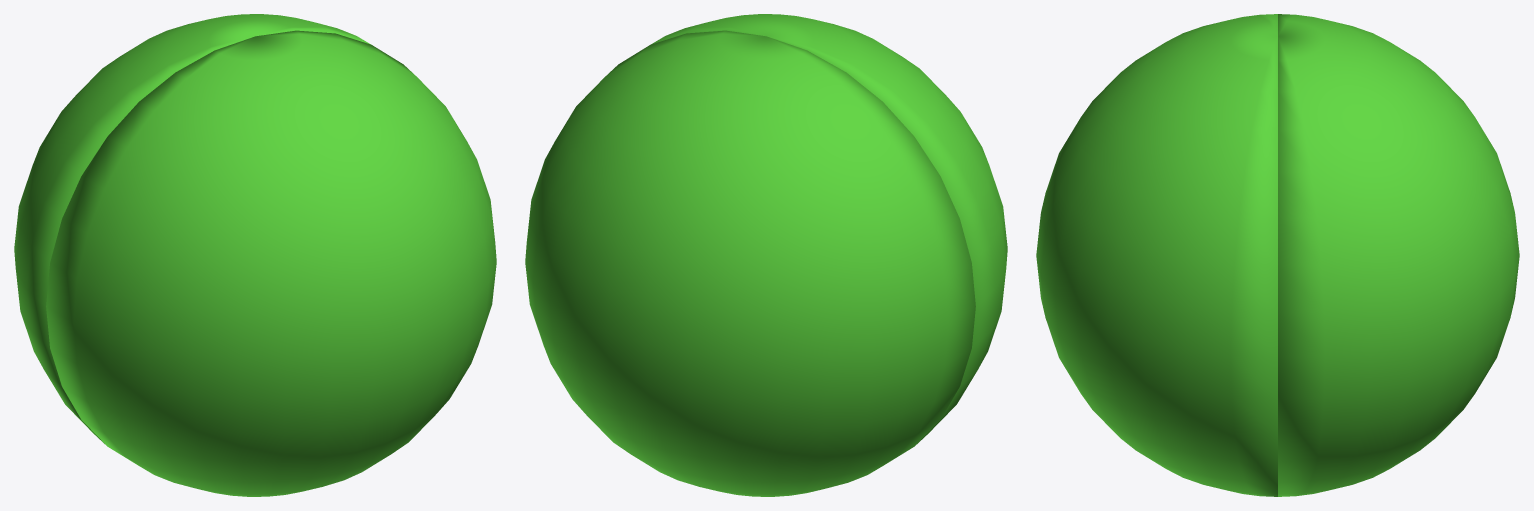
Rendered from Watermelon_Sliced.fbx.
The picture shows the model from 3 angles, left to right: view 1: azimuth 30°, elevation 25°; view 2: azimuth 150°, elevation 25°; view 3: azimuth 270°, elevation 25°; orthographic projection.
Visible parts, largest first — view 1: Sphere, Sphere.002; view 2: Sphere.002, Sphere; view 3: Sphere.002, Sphere.
Boxes of the visible parts, <box> form: Sphere: <box>46,30,496,496</box>; Sphere.002: <box>14,14,370,443</box>; Sphere.002: <box>525,30,975,496</box>; Sphere: <box>651,14,1007,443</box>; Sphere.002: <box>1278,14,1519,496</box>; Sphere: <box>1036,14,1277,496</box>.
Size of the model in its own units: 200 by 200 by 200.
